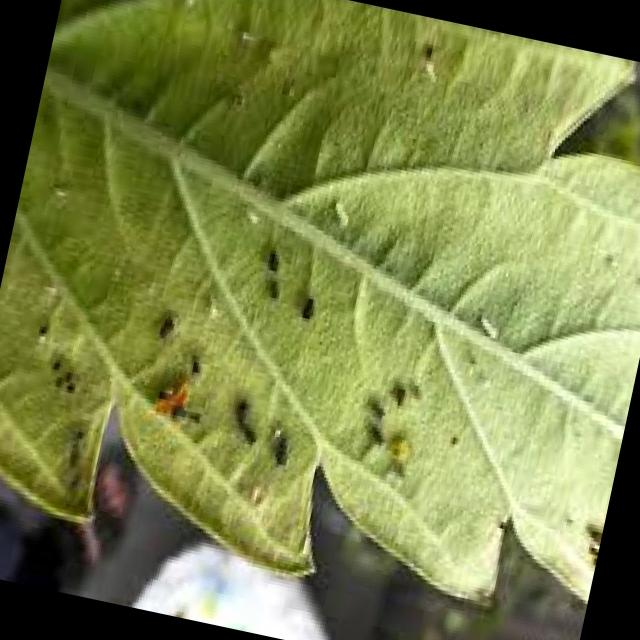aphid: (269, 419, 306, 476), (296, 280, 334, 328), (260, 234, 298, 280), (578, 498, 608, 552), (388, 370, 424, 415), (183, 346, 216, 384), (156, 304, 187, 344), (264, 266, 294, 306), (238, 412, 268, 449), (366, 416, 396, 450), (366, 388, 396, 422), (234, 390, 260, 424), (420, 32, 447, 62), (35, 314, 61, 342), (64, 371, 88, 401), (51, 348, 72, 374), (54, 366, 76, 389)
